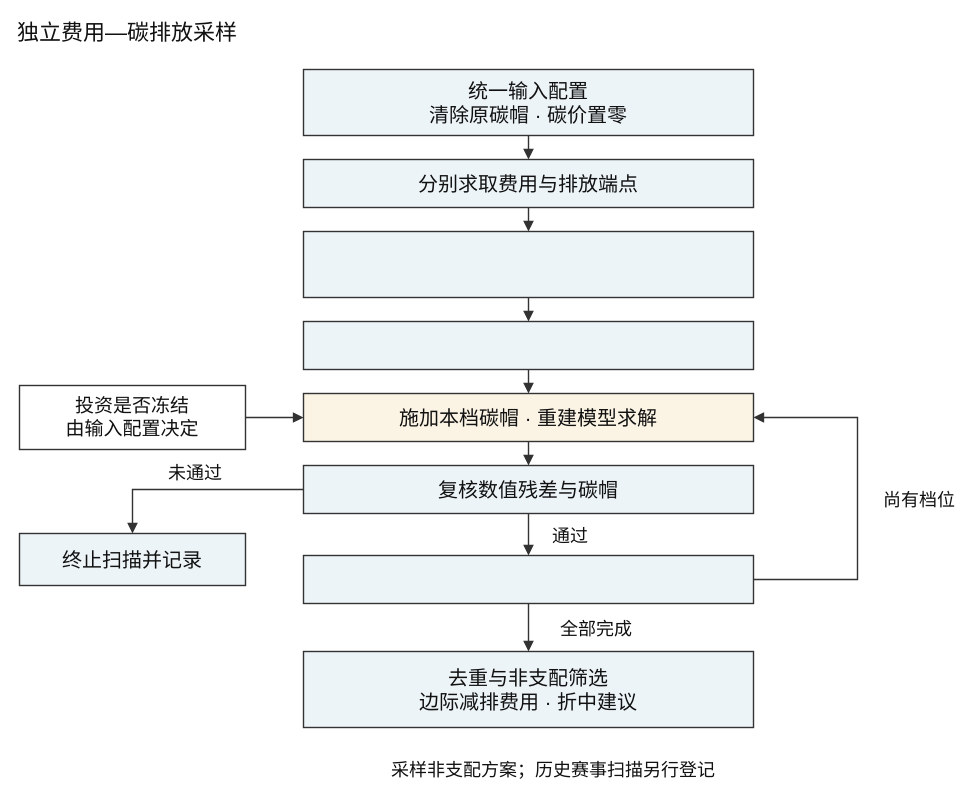
Image size: 973x800. Some labels were removed from this diagram. The shapes that lost their labels are listed below. From the top down, each one's centre as x and y in pixels, then its label:
At (x=528, y=264): "在首阶段可行值的容差边界内 优化次目标".
At (x=528, y=345): "检查端点顺序 · 设置碳帽档位".
At (x=528, y=579): "保存方案 · 进入下一档".
